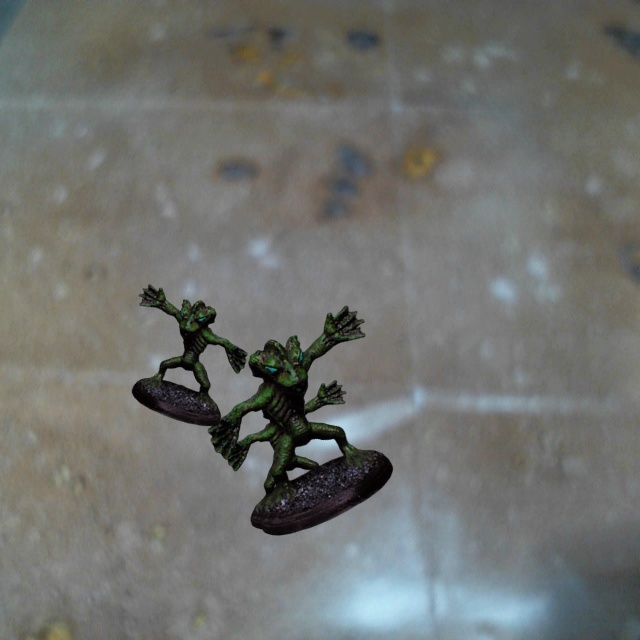pieza_juego: (208, 306, 392, 535), (226, 380, 347, 529), (132, 284, 247, 425)
